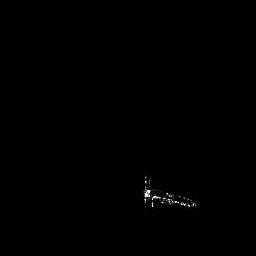ship: (138, 171, 199, 213)
